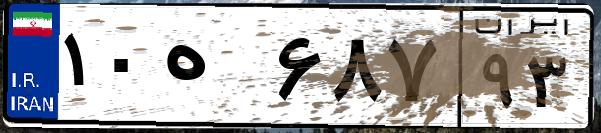0: (110, 28, 158, 98)
1: (57, 26, 110, 100)
3: (525, 38, 570, 115)
6: (270, 28, 330, 110)
7: (385, 28, 445, 110)
8: (330, 28, 385, 110)
9: (475, 38, 525, 113)
ه: (158, 20, 270, 120)
